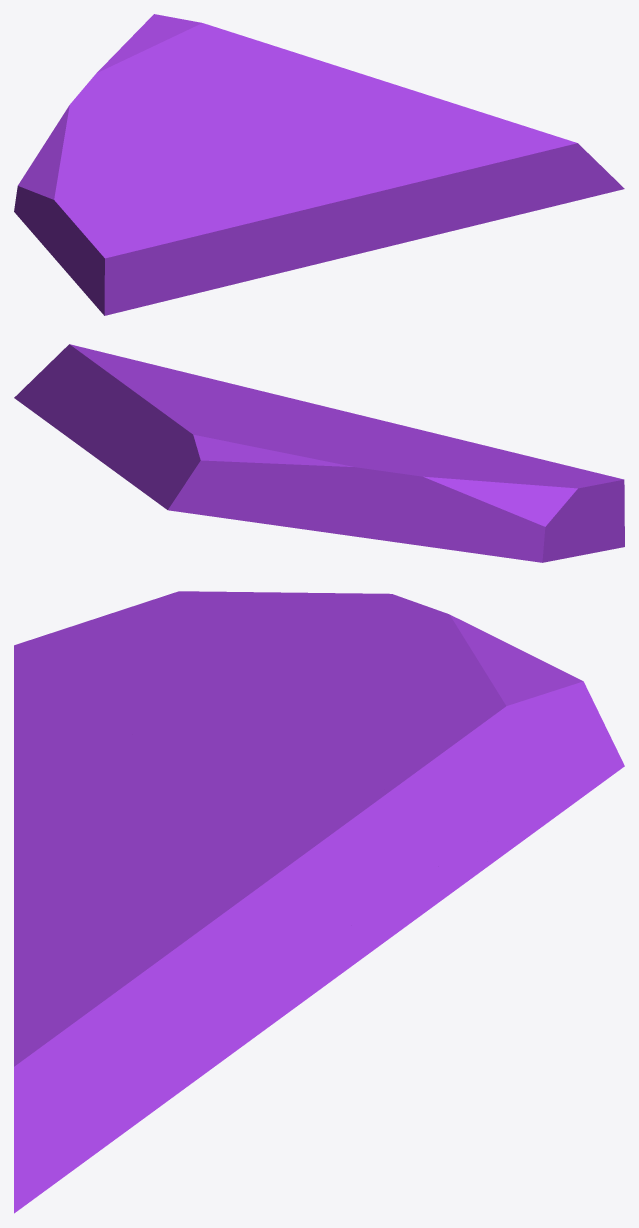
File: Window_144_4_chunks.fbx
3 views of the same model, one above another, from view 1: azimuth 30°, elevation 25°; view 2: azimuth 150°, elevation 25°; view 3: azimuth 270°, elevation 25° (orthographic). The views are drawn at different scales.
Parts seen in each view (by area): view 1: Window_144_4_0, Window_144_4_6, Window_144_4_4, Window_144_4_2, Window_144_4_5; view 2: Window_144_4_2, Window_144_4_0, Window_144_4_6, Window_144_4_5, Window_144_4_4, Window_144_4_3, Window_144_4_1; view 3: Window_144_4_6, Window_144_4_2, Window_144_4_0, Window_144_4_5, Window_144_4_4, Window_144_4_3, Window_144_4_1.
Part boxes in pixels (x1,y1,x2,y2): Window_144_4_0: [14, 108, 238, 315]; Window_144_4_6: [326, 62, 624, 240]; Window_144_4_4: [205, 146, 412, 282]; Window_144_4_2: [67, 14, 291, 134]; Window_144_4_5: [186, 51, 327, 168]; Window_144_4_2: [138, 413, 429, 529]; Window_144_4_0: [374, 441, 624, 562]; Window_144_4_6: [14, 344, 290, 459]; Window_144_4_5: [151, 405, 408, 447]; Window_144_4_4: [277, 398, 467, 445]; Window_144_4_3: [99, 408, 159, 474]; Window_144_4_1: [120, 460, 406, 543]; Window_144_4_6: [14, 825, 352, 1213]; Window_144_4_2: [256, 593, 624, 856]; Window_144_4_0: [14, 591, 382, 762]; Window_144_4_5: [147, 705, 396, 836]; Window_144_4_4: [14, 727, 165, 898]; Window_144_4_3: [348, 802, 439, 965]; Window_144_4_1: [434, 823, 546, 905].
Size of the model in its own units: 970 by 241 by 530.
